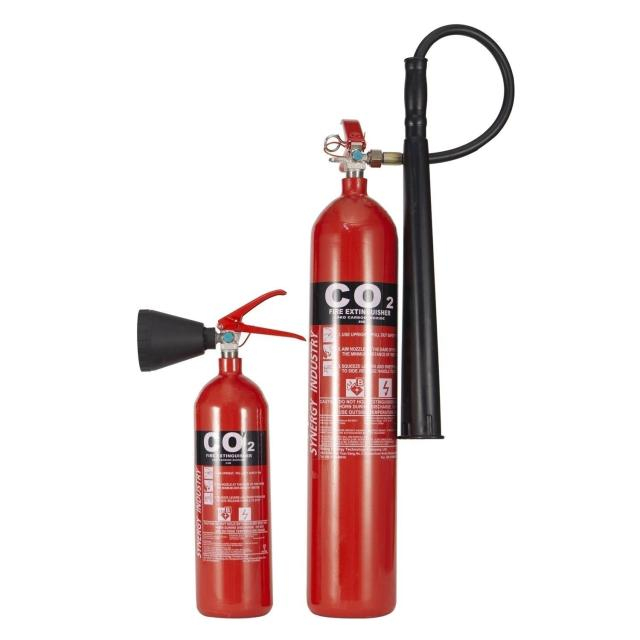fire_extinguisher: (303, 19, 518, 620), (130, 286, 308, 622)
